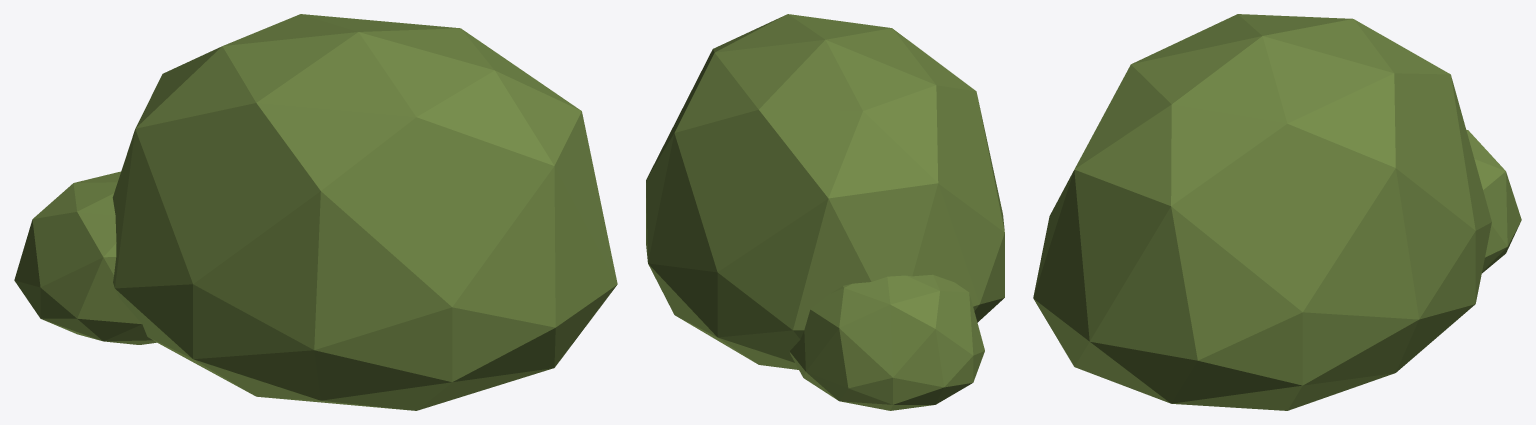
Rendered from bush_green_4.glb.
The picture shows the model from 3 angles, left to right: view 1: azimuth 30°, elevation 25°; view 2: azimuth 150°, elevation 25°; view 3: azimuth 270°, elevation 25°; orthographic projection. The views are drawn at different scales.
Parts seen in each view (by area): view 1: Liurnia Bushes.001; view 2: Liurnia Bushes.001; view 3: Liurnia Bushes.001.
Part boxes in pixels (x1=…): Liurnia Bushes.001: x1=14, y1=14, x2=617, y2=410; Liurnia Bushes.001: x1=646, y1=14, x2=1004, y2=410; Liurnia Bushes.001: x1=1033, y1=14, x2=1521, y2=410.
Size of the model in its own units: 0.0927 by 0.0683 by 0.0882.
